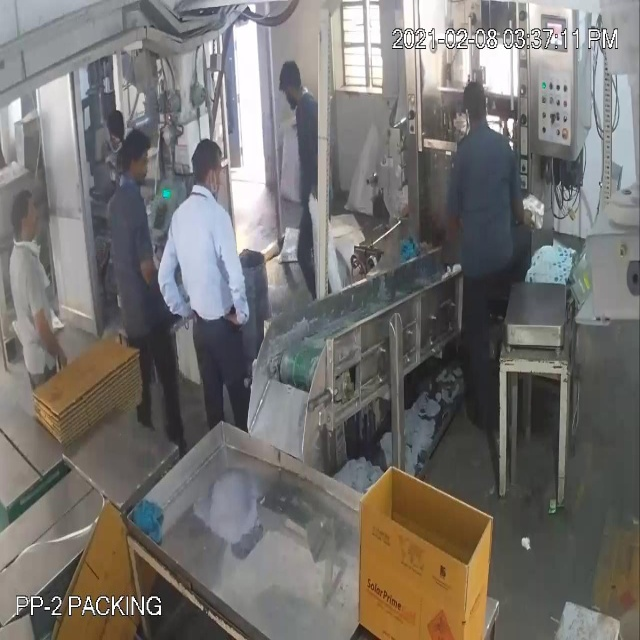Sin_guantes: (214, 228, 251, 348), (33, 285, 78, 374), (160, 243, 200, 326)
